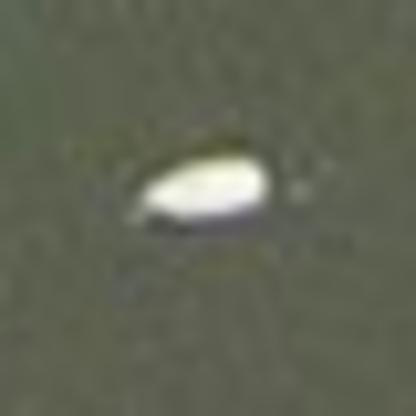ship: (110, 121, 292, 241)
